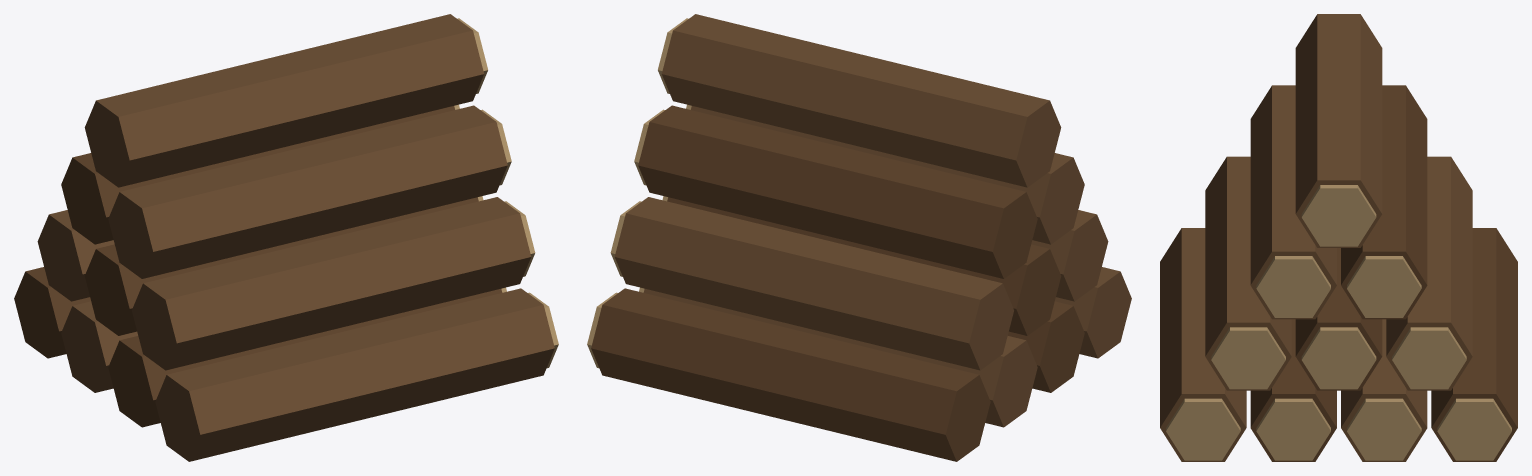
File: logs.glb
3 renders of one model, left to right at view 1: azimuth 30°, elevation 25°; view 2: azimuth 150°, elevation 25°; view 3: azimuth 270°, elevation 25°, orthographic. The views are drawn at different scales.
Parts seen in each view (by area): view 1: Logs; view 2: Logs; view 3: Logs.
Part boxes in pixels (x1,y1,x2,y2): Logs: (14,14,558,461); Logs: (587,14,1131,461); Logs: (1160,14,1517,461).
Bounding box in the file's own units: 0.204 × 0.1581 × 0.182.
